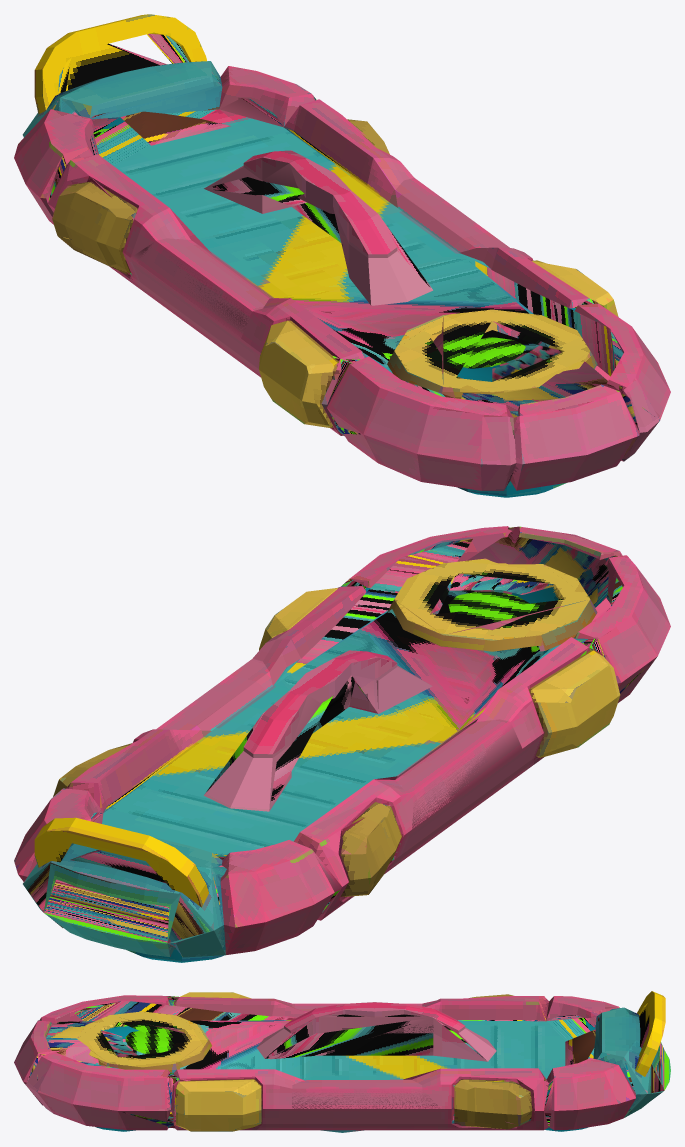
Rendered from item_hoverboard_pink.glb.
3 renders of one model, top to bottom at view 1: azimuth 30°, elevation 25°; view 2: azimuth 150°, elevation 25°; view 3: azimuth 270°, elevation 25°, orthographic. The views are drawn at different scales.
Visible parts, largest first — view 1: default; view 2: default; view 3: default.
Boxes of the visible parts, left/top/right/bottom form: default: left=14, top=14, right=670, bottom=497; default: left=14, top=526, right=670, bottom=962; default: left=14, top=991, right=670, bottom=1132.
Size of the model in its own units: 0.3789 by 0.1934 by 1.
Materials: 1 (1 with a texture image).
